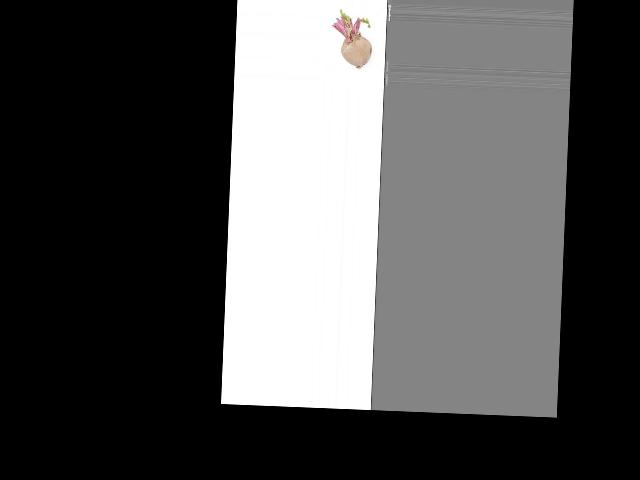beet: (330, 9, 373, 69)
